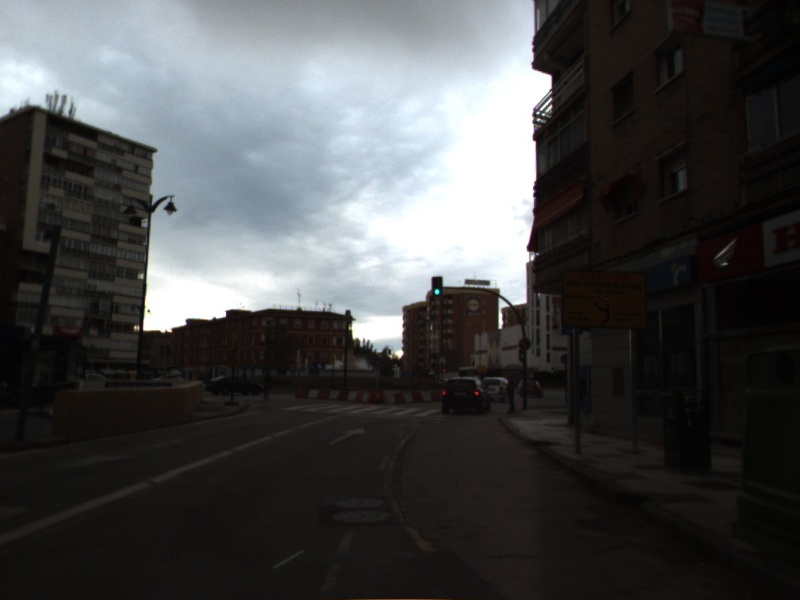STRAIGHT: (325, 425, 366, 447)
